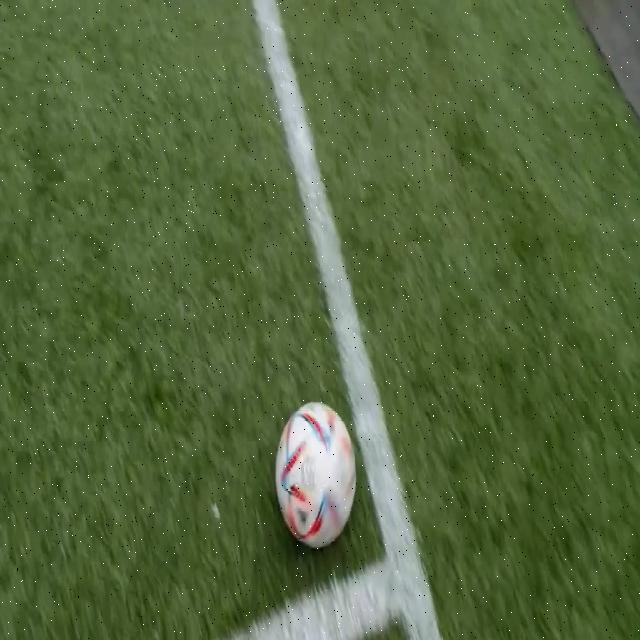ball: (275, 402, 356, 548)
